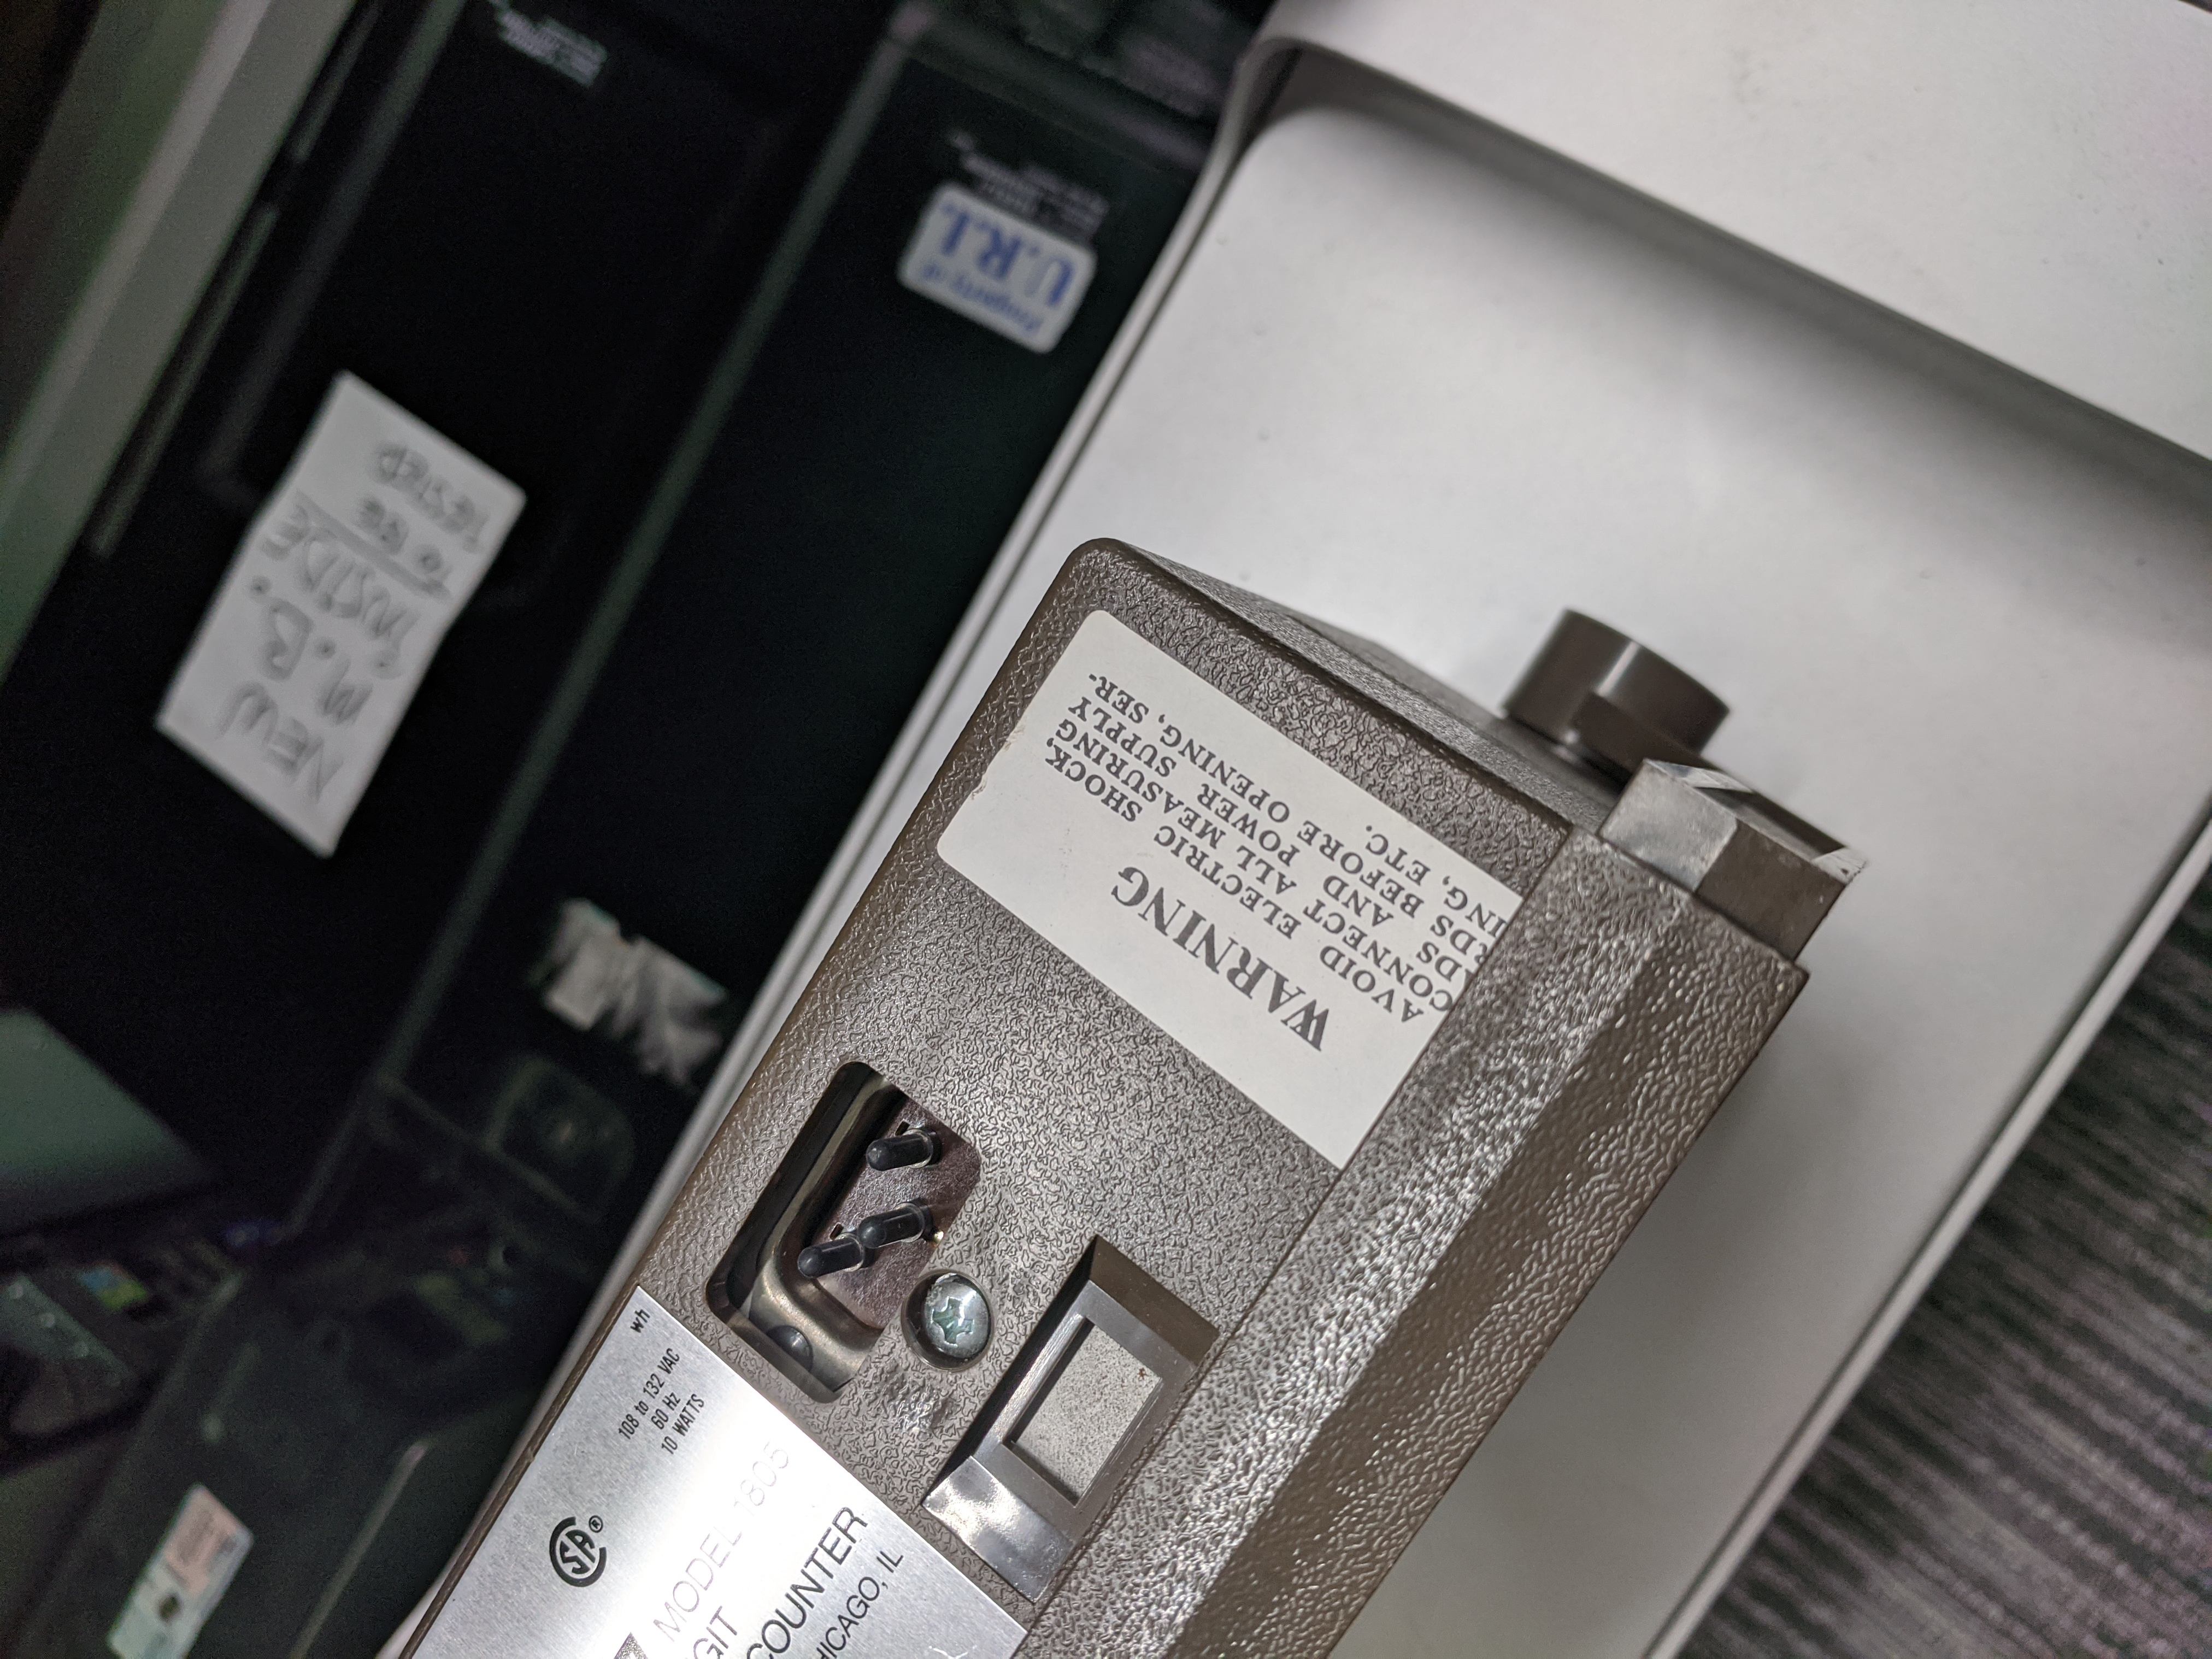cross_recessed_screw: (897, 1265, 989, 1356)
